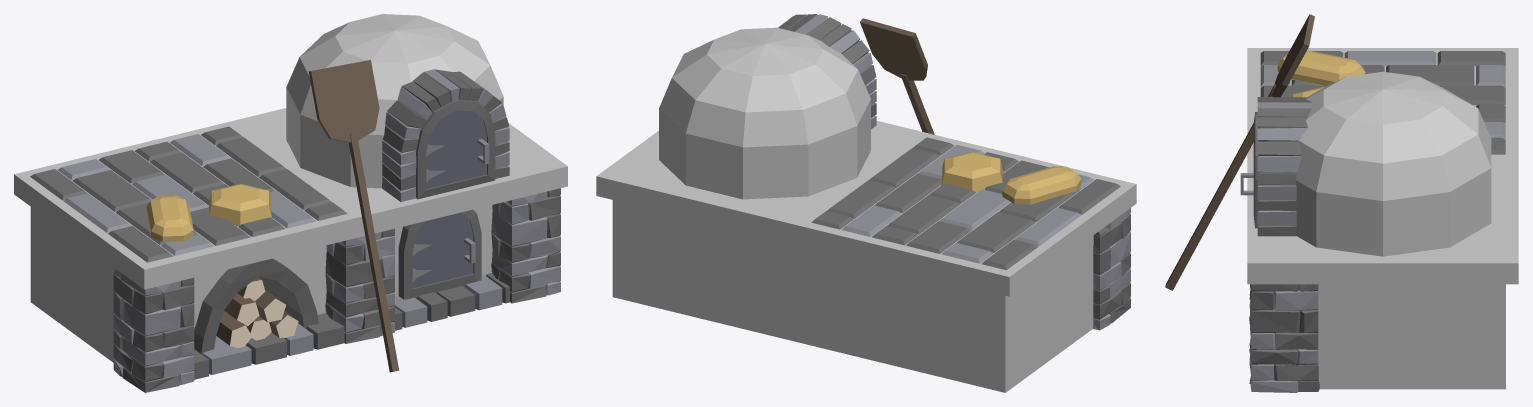
The model's file is _bake.fbx.
The picture shows the model from 3 angles, left to right: view 1: azimuth 30°, elevation 25°; view 2: azimuth 150°, elevation 25°; view 3: azimuth 270°, elevation 25°; orthographic projection. The views are drawn at different scales.
Parts seen in each view (by area): view 1: bake; view 2: bake; view 3: bake.
Boxes of the visible parts, box(x1,y1,x2,y2) form: bake: box(14, 14, 567, 392); bake: box(596, 14, 1136, 392); bake: box(1165, 14, 1518, 392).
Bounding box in the file's own units: 465 × 269 × 323.
